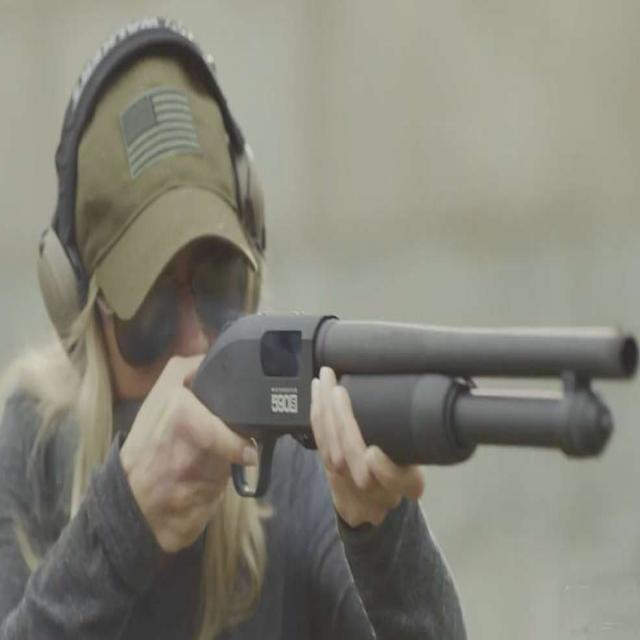shotgun: (164, 302, 640, 530)
